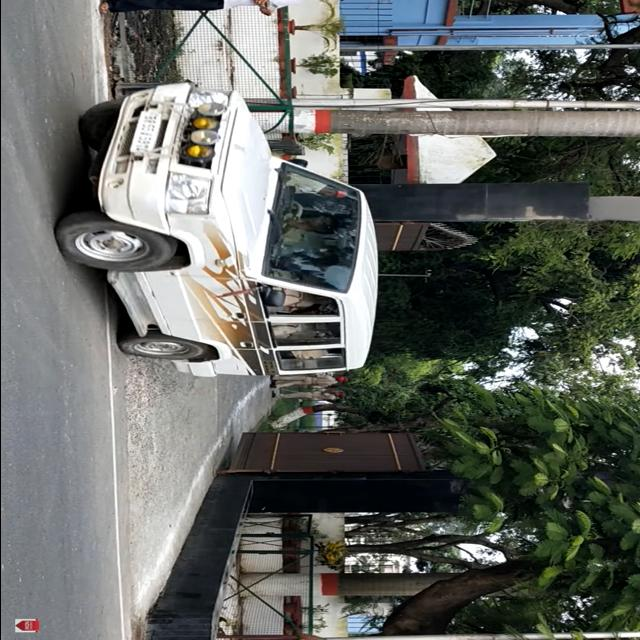emergency-vehicles: (52, 78, 394, 384)
